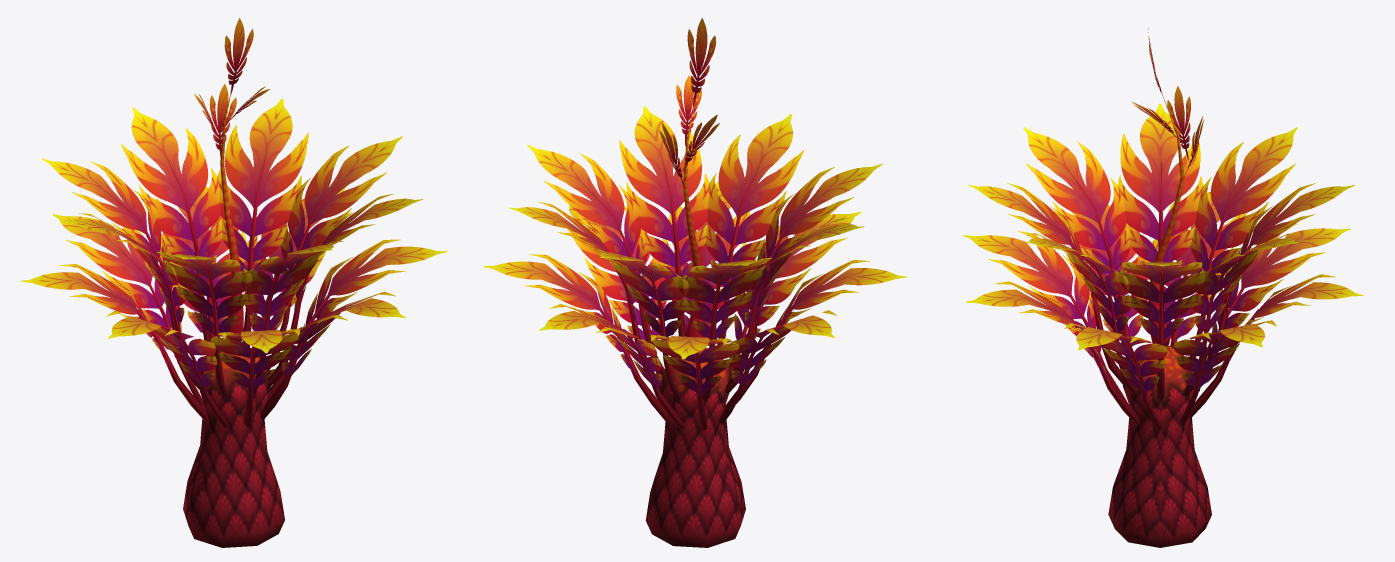
File: Red_Tree_04d.FBX
The picture shows the model from 3 angles, left to right: view 1: azimuth 30°, elevation 25°; view 2: azimuth 150°, elevation 25°; view 3: azimuth 270°, elevation 25°; orthographic projection.
Parts seen in each view (by area): view 1: Red_Tree_04d; view 2: Red_Tree_04d; view 3: Red_Tree_04d.
Part boxes in pixels (x1,y1,x2,y2): Red_Tree_04d: (21,18,447,547); Red_Tree_04d: (483,18,907,547); Red_Tree_04d: (963,27,1363,547).
Bounding box in the file's own units: 303 × 389 × 304.
